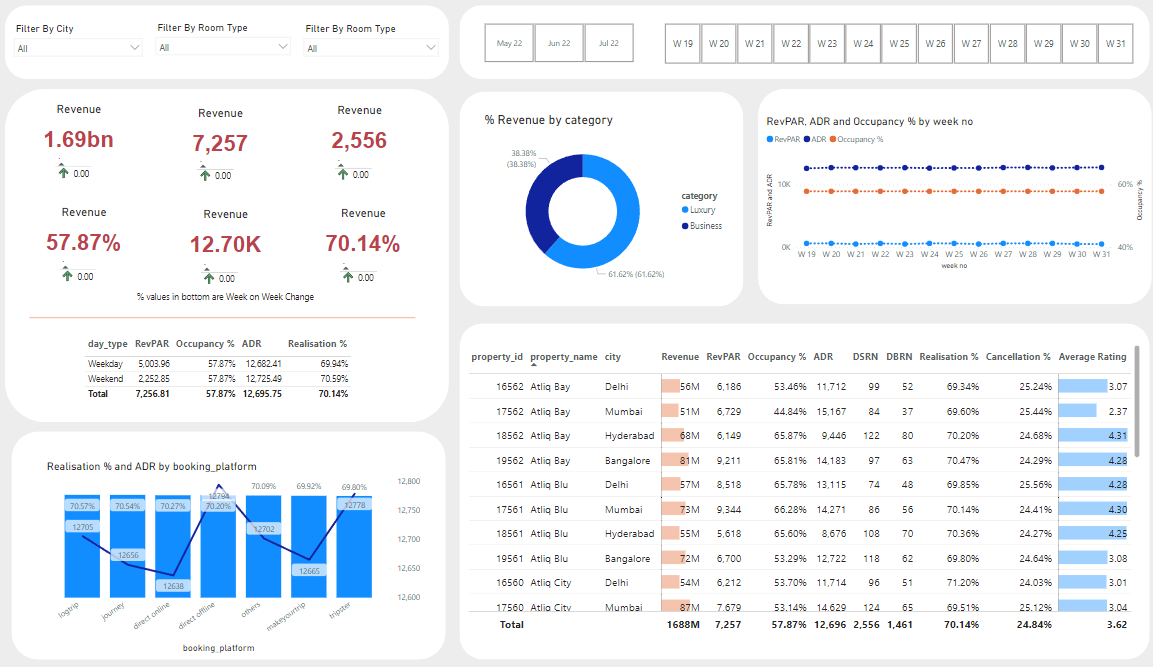

Layout of this report page (visuals, bound fields, positions):
{"tool":"powerbi","page":{"name":"Hospitality Analysis","canvas":[1800,1100],"ordinal":0},"visuals":[{"type":"shape","box":[1175,165,611.7,335],"z":0},{"type":"shape","box":[712.5,530,1072.5,522.5],"z":1000},{"type":"shape","box":[711.4,170,441.4,334.3],"z":2000},{"type":"shape","box":[15,697.5,675,355],"z":3000},{"type":"shape","box":[6,166,690,518],"z":4000},{"type":"shape","box":[712.5,35,1072.5,115],"z":5000},{"type":"shape","box":[5,35,690,115],"z":6000},{"type":"tableEx","fields":{"Values":["dim_hotels.property_id","dim_hotels.property_name","dim_hotels.city","Key Measureee.Revenue","Key Measureee.RevPAR","Key Measureee.Occupancy %","Key Measureee.ADR","Key Measureee.DSRN","Key Measureee.DBRN","Key Measureee.Realisation %","Key Measureee.Cancellation %","Key Measureee.Average Rating"]},"box":[720,564,1054,456],"z":7000},{"type":"slicer","fields":{"Values":["dim_hotels.city"]},"box":[11,58.6,220,68.6],"z":8000},{"type":"slicer","fields":{"Values":["dim_rooms.room_class"]},"box":[231,55.7,230,71.4],"z":9000},{"type":"slicer","fields":{"Values":["dim_date.mmm yy"]},"box":[726.7,58.6,280,72.9],"z":10000},{"type":"slicer","fields":{"Values":["dim_date.week no"]},"box":[1006.7,58.3,776.7,75],"z":11000},{"type":"tableEx","fields":{"Values":["Key Measureee.Revenue WoW change %"]},"box":[77.5,256.1,88.8,62.5],"z":12000},{"type":"card","title":"Revenue","fields":{"Values":["Key Measureee.Revenue"]},"box":[36.5,186.7,170,92.9],"z":13000},{"type":"donutChart","title":"% Revenue by category","fields":{"Category":["dim_hotels.category"],"Y":["Key Measureee.Revenue"]},"box":[745,202.5,390,287.5],"z":14000},{"type":"slicer","fields":{"Values":["dim_rooms.room_class"]},"box":[461,58.6,230,71.4],"z":15000},{"type":"tableEx","fields":{"Values":["Key Measureee.Revenue WoW change %"]},"box":[297.1,261,88.8,62.5],"z":16000},{"type":"card","title":"Revenue","fields":{"Values":["Key Measureee.RevPAR"]},"box":[256,191.5,170,92.9],"z":17000},{"type":"tableEx","fields":{"Values":["Key Measureee.Revenue WoW change %"]},"box":[512.3,258.2,88.8,62.5],"z":18000},{"type":"card","title":"Revenue","fields":{"Values":["Key Measureee.DSRN"]},"box":[471.3,188.7,170,92.9],"z":19000},{"type":"tableEx","fields":{"Values":["Key Measureee.Revenue WoW change %"]},"box":[85,415,88.8,62.5],"z":20000},{"type":"card","title":"Revenue","fields":{"Values":["Key Measureee.Occupancy %"]},"box":[43.9,345.5,170,92.9],"z":21000},{"type":"tableEx","fields":{"Values":["Key Measureee.Revenue WoW change %"]},"box":[304.5,419.9,88.8,62.5],"z":22000},{"type":"card","title":"Revenue","fields":{"Values":["Key Measureee.ADR"]},"box":[263.4,350.4,170,92.9],"z":23000},{"type":"tableEx","fields":{"Values":["Key Measureee.Revenue WoW change %"]},"box":[519.8,417.1,88.8,62.5],"z":24000},{"type":"card","title":"Revenue","fields":{"Values":["Key Measureee.Realisation %"]},"box":[478.7,347.6,170,92.9],"z":25000},{"type":"shape","box":[44.8,514.7,600,14.7],"z":26000},{"type":"textbox","box":[206.1,473.7,308.3,33.3],"z":27000},{"type":"tableEx","fields":{"Values":["dim_date.day_type","Key Measureee.RevPAR","Key Measureee.Occupancy %","Key Measureee.ADR","Key Measureee.Realisation %"]},"box":[123.5,543.5,433.3,113.3],"z":28000},{"type":"lineStackedColumnComboChart","fields":{"Category":["fact_bookings.booking_platform"],"Y":["Key Measureee.Realisation %"],"Y2":["Key Measureee.ADR"]},"box":[65,742.5,590,305],"z":29000},{"type":"lineChart","fields":{"Category":["dim_date.date.Variation.Date Hierarchy.Month","dim_date.week no"],"Y":["Key Measureee.RevPAR","Key Measureee.ADR"],"Y2":["Key Measureee.Occupancy %"]},"box":[1183.3,205,596.7,246.7],"z":30000}]}

Visuals, with their boxes on the page's 1800x1100 design canvas (x1, y1, x2, y2). These are canvas units, not pixel positions in the 1153x667 screenshot, which may show the page scaled, cropped or inside an application window:
shape: 1175/165/1787/500
shape: 712/530/1785/1052
shape: 711/170/1153/504
shape: 15/698/690/1052
shape: 6/166/696/684
shape: 712/35/1785/150
shape: 5/35/695/150
tableEx - dim_hotels.property_id x dim_hotels.property_name: 720/564/1774/1020
slicer - dim_hotels.city: 11/59/231/127
slicer - dim_rooms.room_class: 231/56/461/127
slicer - dim_date.mmm yy: 727/59/1007/132
slicer - dim_date.week no: 1007/58/1783/133
tableEx - Key Measureee.Revenue WoW change %: 78/256/166/319
"Revenue" card: 36/187/206/280
"% Revenue by category" donutChart: 745/202/1135/490
slicer - dim_rooms.room_class: 461/59/691/130
tableEx - Key Measureee.Revenue WoW change %: 297/261/386/324
"Revenue" card: 256/192/426/284
tableEx - Key Measureee.Revenue WoW change %: 512/258/601/321
"Revenue" card: 471/189/641/282
tableEx - Key Measureee.Revenue WoW change %: 85/415/174/478
"Revenue" card: 44/346/214/438
tableEx - Key Measureee.Revenue WoW change %: 304/420/393/482
"Revenue" card: 263/350/433/443
tableEx - Key Measureee.Revenue WoW change %: 520/417/609/480
"Revenue" card: 479/348/649/440
shape: 45/515/645/529
textbox: 206/474/514/507
tableEx - dim_date.day_type x Key Measureee.RevPAR: 124/544/557/657
lineStackedColumnComboChart - fact_bookings.booking_platform x Key Measureee.Realisation %: 65/742/655/1048
lineChart - dim_date.date.Variation.Date Hierarchy.Month x dim_date.week no: 1183/205/1780/452
